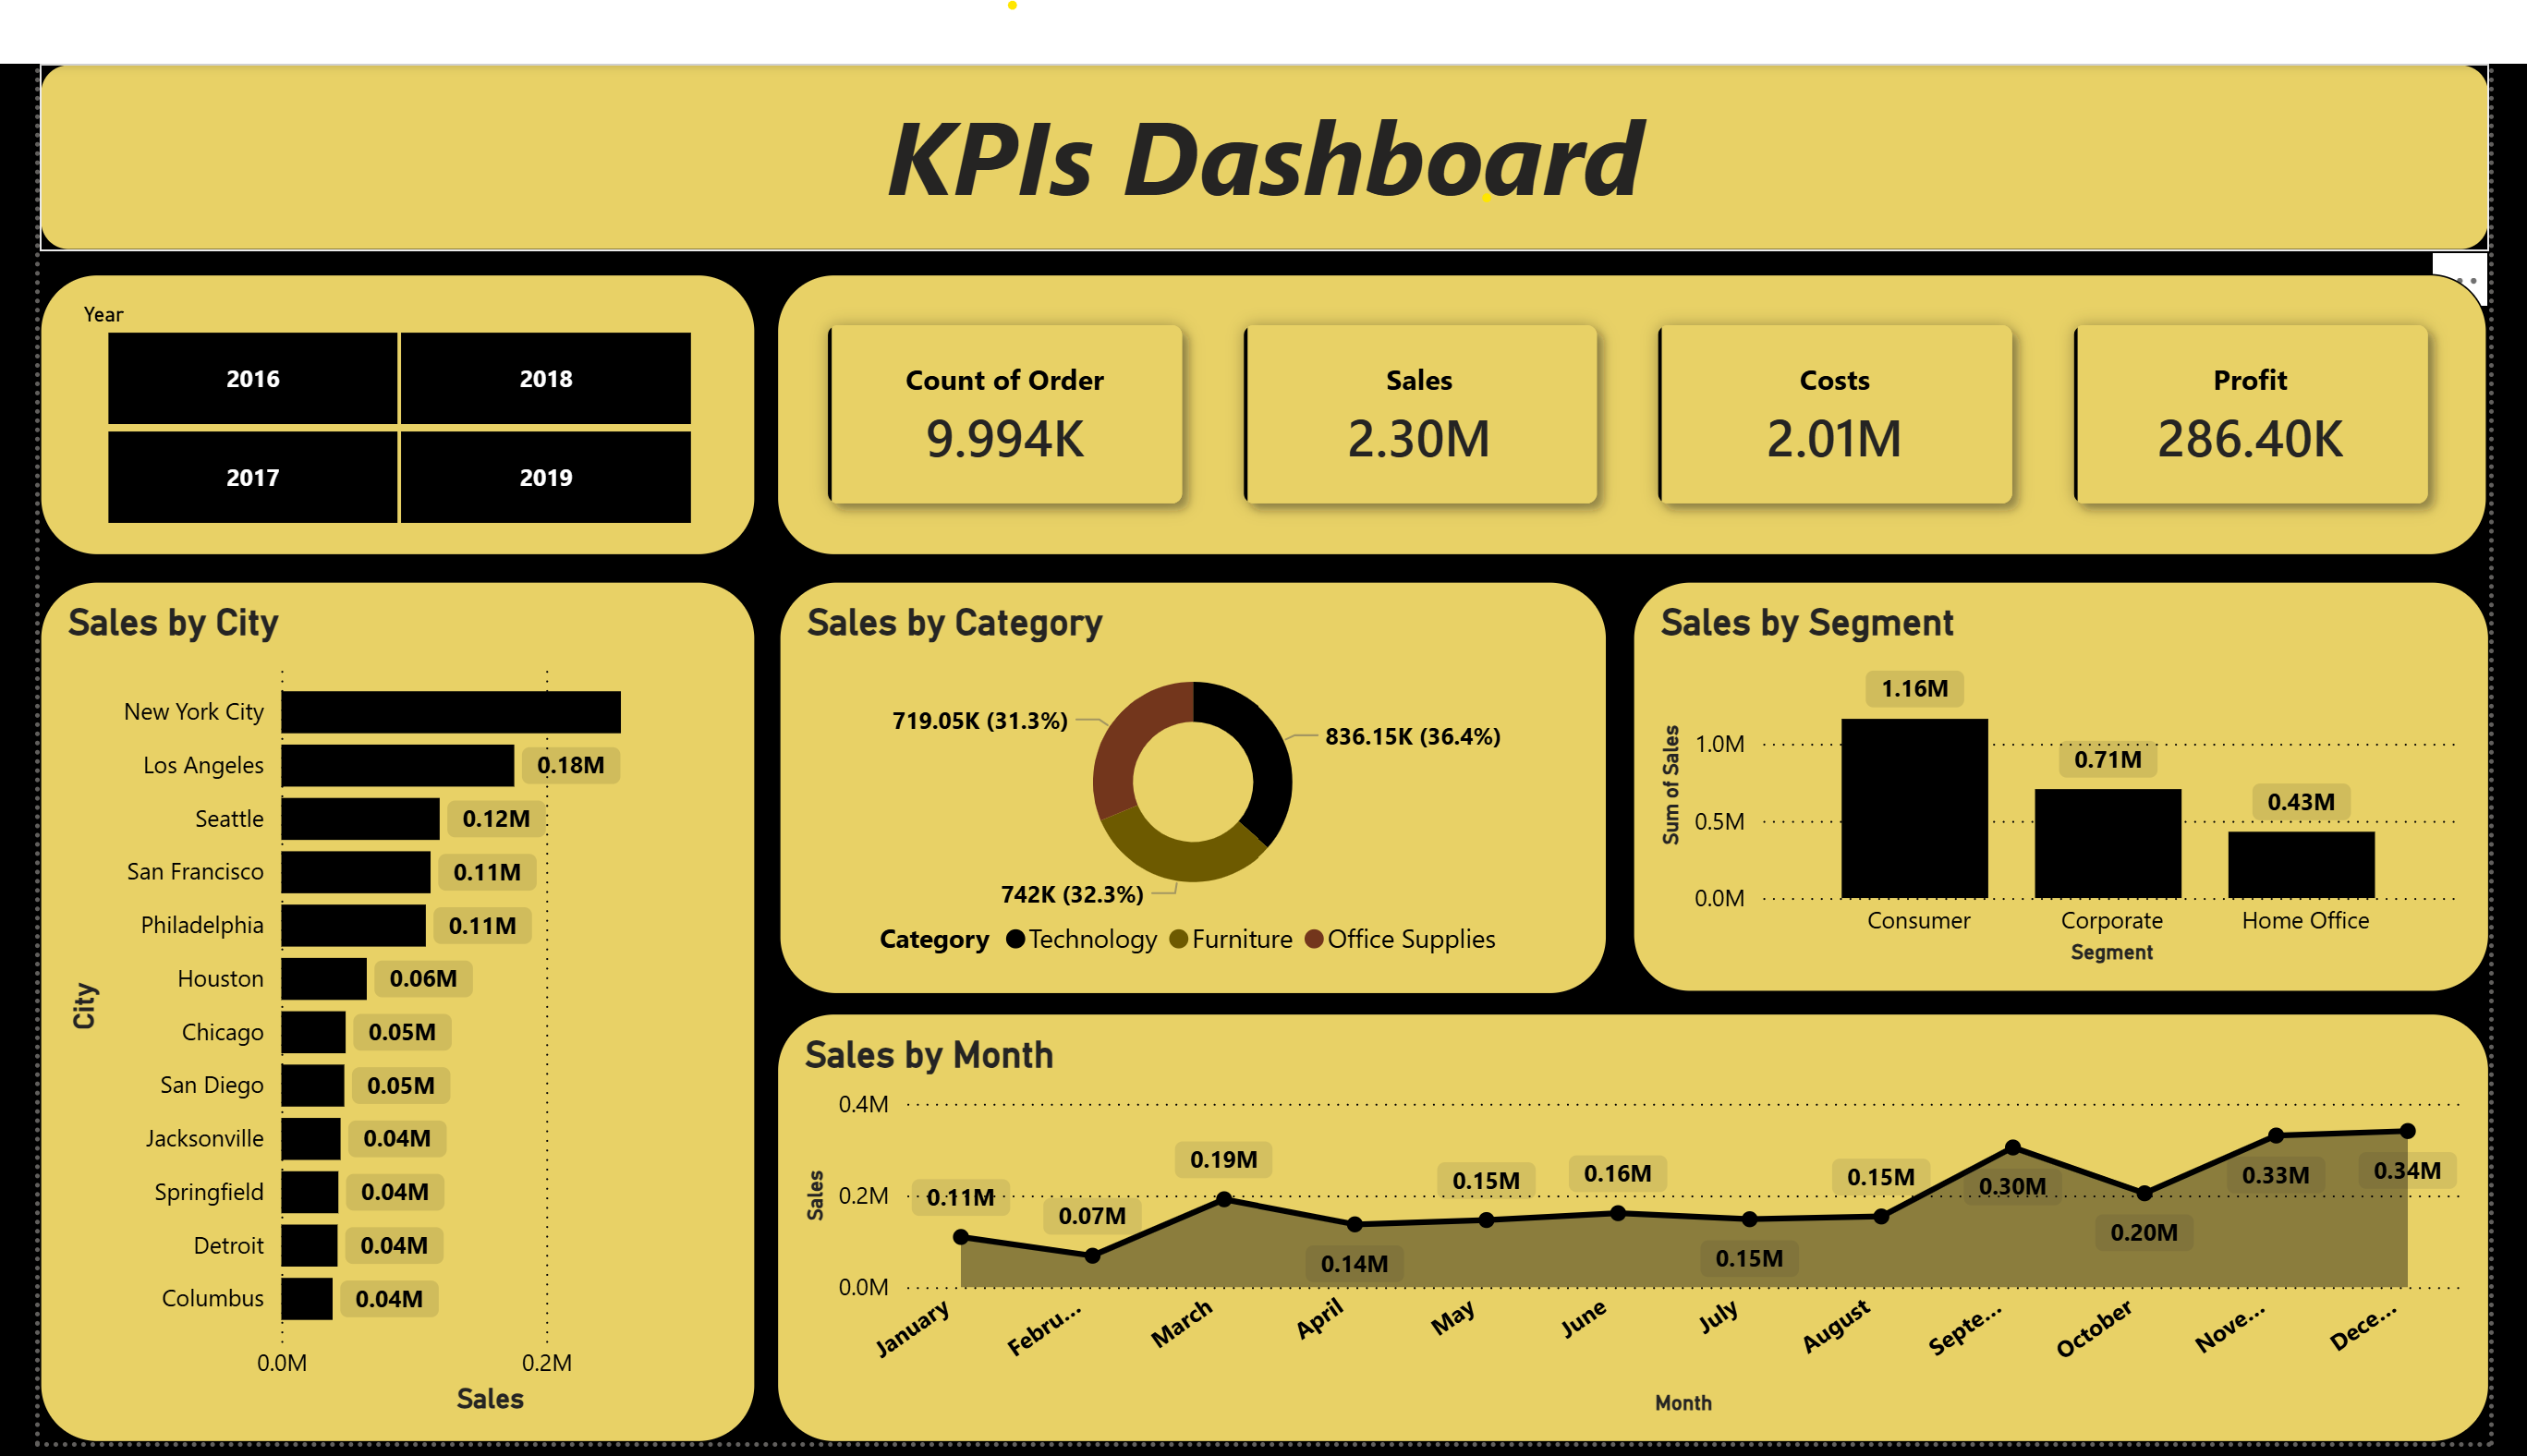

The dashboard page shown, as its layout file describes it:
{"tool":"powerbi","page":{"name":"Dashboard","canvas":[1280,720],"ordinal":0},"visuals":[{"type":"barChart","title":" Sales by City","fields":{"Category":["Orders.City"],"Y":["Sum(Orders.Sales)"]},"box":[0,270.2,374,450],"z":0},{"type":"donutChart","title":" Sales by Category","fields":{"Category":["Orders.Category"],"Y":["Sum(Orders.Sales)"]},"box":[386.1,270.2,433.1,216],"z":1000},{"type":"columnChart","title":"Sales by Segment","fields":{"Category":["Orders.Segment"],"Y":["Sum(Orders.Sales)"]},"box":[832.4,270.2,447.6,214.7],"z":2000},{"type":"lineChart","title":"Sales by Month","fields":{"Category":["Orders.Ship Date.Variation.Date Hierarchy.Month"],"Y":["Sum(Orders.Sales)"]},"box":[384.9,495.8,895.2,224.4],"z":3000},{"type":"textbox","box":[0,0,1280,97.7],"z":4000},{"type":"slicer","fields":{"Values":["Orders.Ship Date.Variation.Date Hierarchy.Year"]},"box":[0,109.8,374,147.2],"z":5000},{"type":"cardVisual","fields":{"Data":["CountNonNull(Orders.Order ID)","Sum(Orders.Sales)","Sum(Orders.Costs)","Sum(Orders.Profit)"]},"box":[384.9,109.8,894,147.2],"z":9000}]}

Visuals, with their boxes in screenshot pixels (x1, y1, x2, y2), scaled from the page's 1280x720 canvas onto the 2527x1456 screenshot:
" Sales by City" barChart: region(0, 546, 738, 1455)
" Sales by Category" donutChart: region(762, 546, 1617, 983)
"Sales by Segment" columnChart: region(1644, 546, 2526, 980)
"Sales by Month" lineChart: region(759, 1002, 2526, 1455)
textbox: region(0, 0, 2526, 198)
slicer - Orders.Ship Date.Variation.Date Hierarchy.Year: region(0, 222, 738, 520)
cardVisual - CountNonNull(Orders.Order ID) x Sum(Orders.Sales): region(759, 222, 2525, 520)
